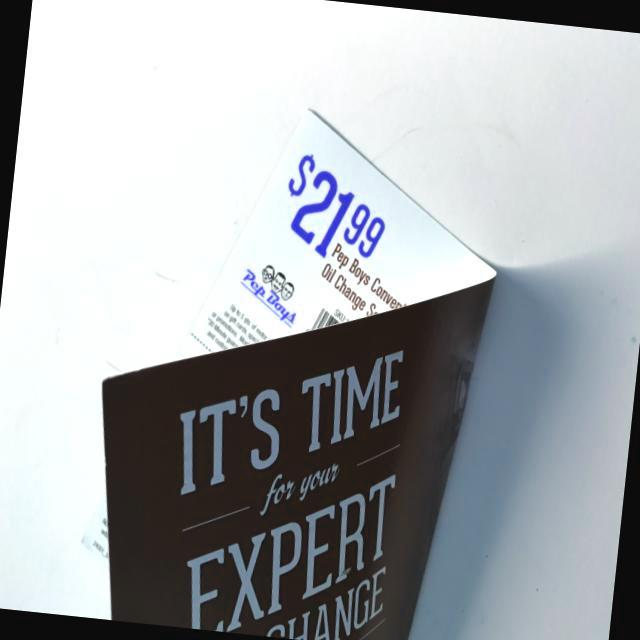paper: (54, 68, 549, 640)
